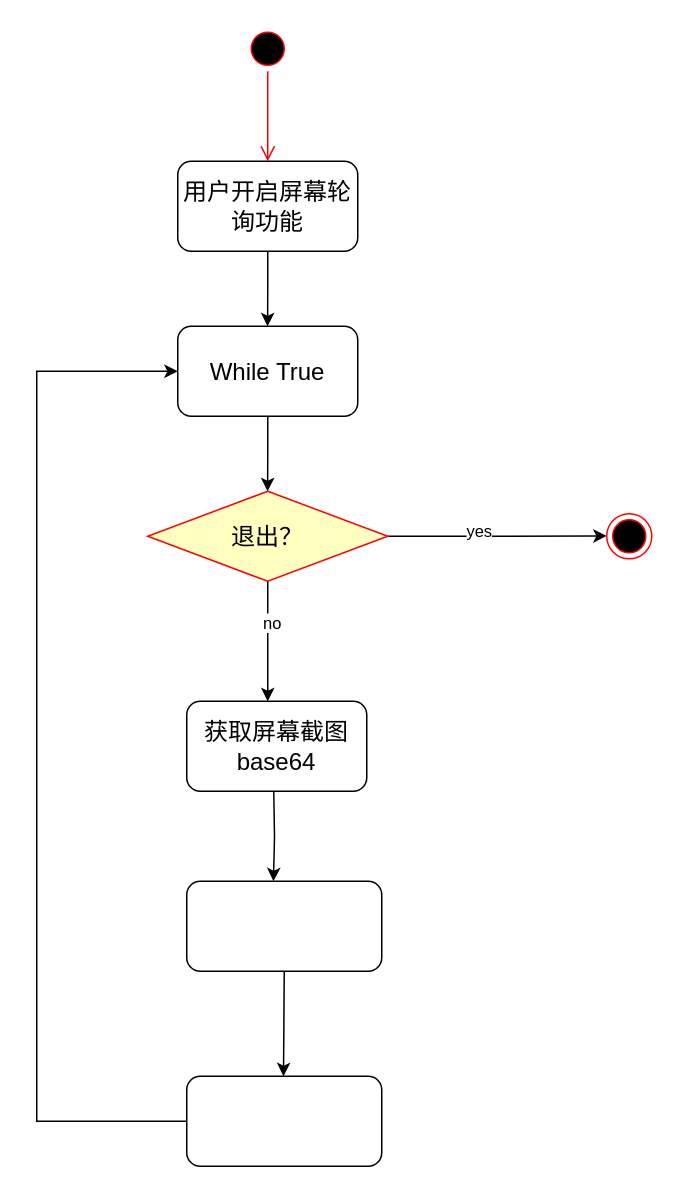
Some shapes in this 678 by 1193 pixel diagram are drawn without their labels. The shapes that lost their labels are listed below. From the top down, each one's centre as x and y in pixels, then its label:
(283,925): 调用图像分析函数
(283,1120): 输出
